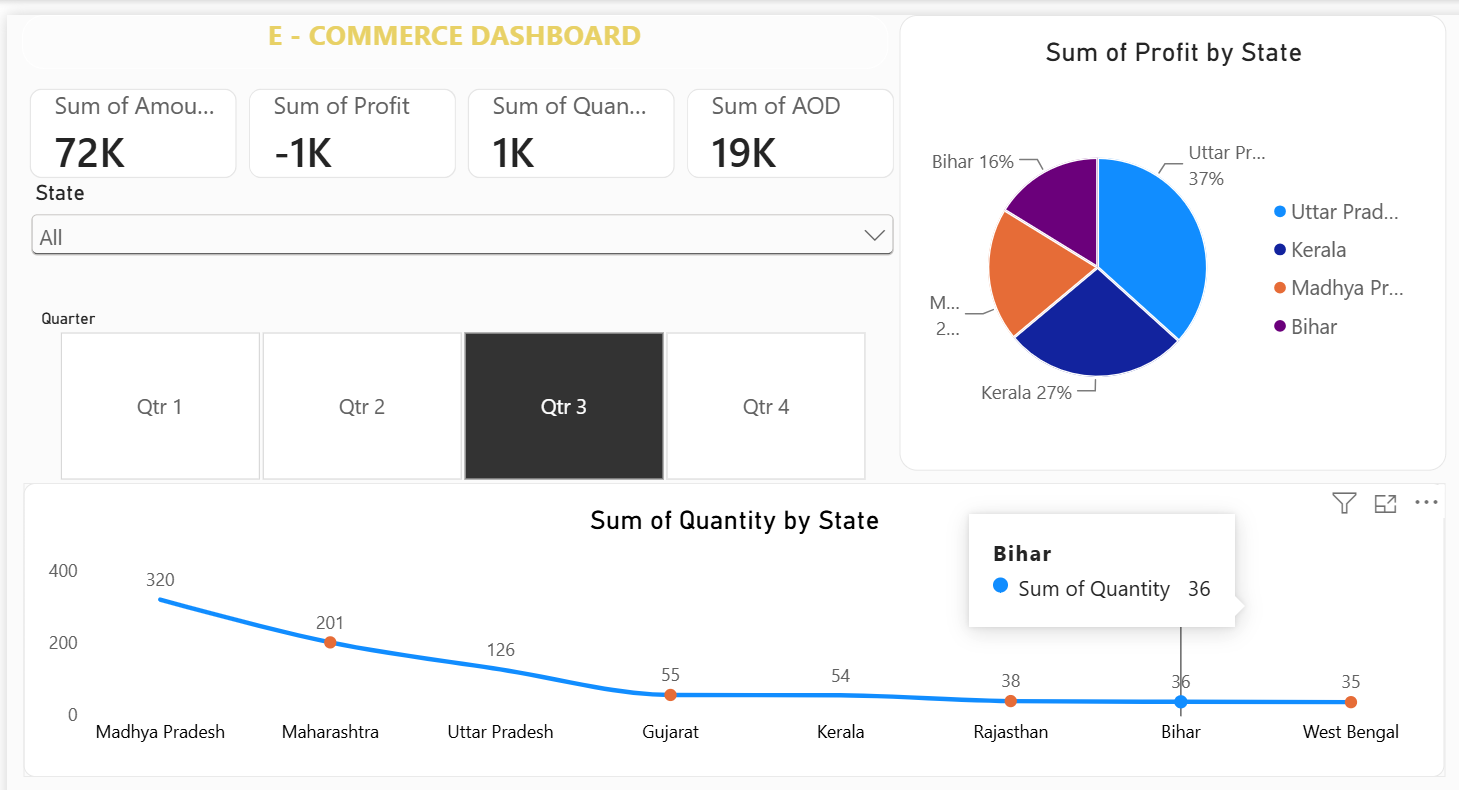

This screenshot's page, from the dashboard's own definition file:
{"tool":"powerbi","page":{"name":"Duplicate of Page 1","canvas":[1920,1080],"ordinal":1},"visuals":[{"type":"textbox","box":[10,0,589.2,36.7],"z":0},{"type":"lineChart","title":"Sum of Quantity by State","fields":{"Category":["Orders.State"],"Y":["Sum(Details.Quantity)"]},"box":[11.7,318.3,966.7,200],"z":5000},{"type":"pieChart","fields":{"Category":["Orders.State"],"Y":["Sum(Details.Profit)"]},"box":[606.7,0,372.2,310],"z":7000},{"type":"slicer","fields":{"Values":["Orders.Order Date.Variation.Date Hierarchy.Quarter"]},"box":[15.6,200,587.8,117.8],"z":8000},{"type":"slicer","fields":{"Values":["Orders.State"]},"box":[11.1,112.2,596.7,85.6],"z":9000},{"type":"cardVisual","fields":{"Data":["Sum(Details.Amount)","Sum(Details.Profit)","Sum(Details.Quantity)","Sum(Details.AOD)"]},"box":[15,50,588.3,61.7],"z":9001}]}

Visuals, with their boxes on the page's 1920x1080 design canvas (x1, y1, x2, y2). These are canvas units, not pixel positions in the 1459x790 screenshot, which may show the page scaled, cropped or inside an application window:
textbox: {"left": 10, "top": 0, "right": 599, "bottom": 37}
"Sum of Quantity by State" lineChart: {"left": 12, "top": 318, "right": 978, "bottom": 518}
pieChart - Orders.State x Sum(Details.Profit): {"left": 607, "top": 0, "right": 979, "bottom": 310}
slicer - Orders.Order Date.Variation.Date Hierarchy.Quarter: {"left": 16, "top": 200, "right": 603, "bottom": 318}
slicer - Orders.State: {"left": 11, "top": 112, "right": 608, "bottom": 198}
cardVisual - Sum(Details.Amount) x Sum(Details.Profit): {"left": 15, "top": 50, "right": 603, "bottom": 112}
